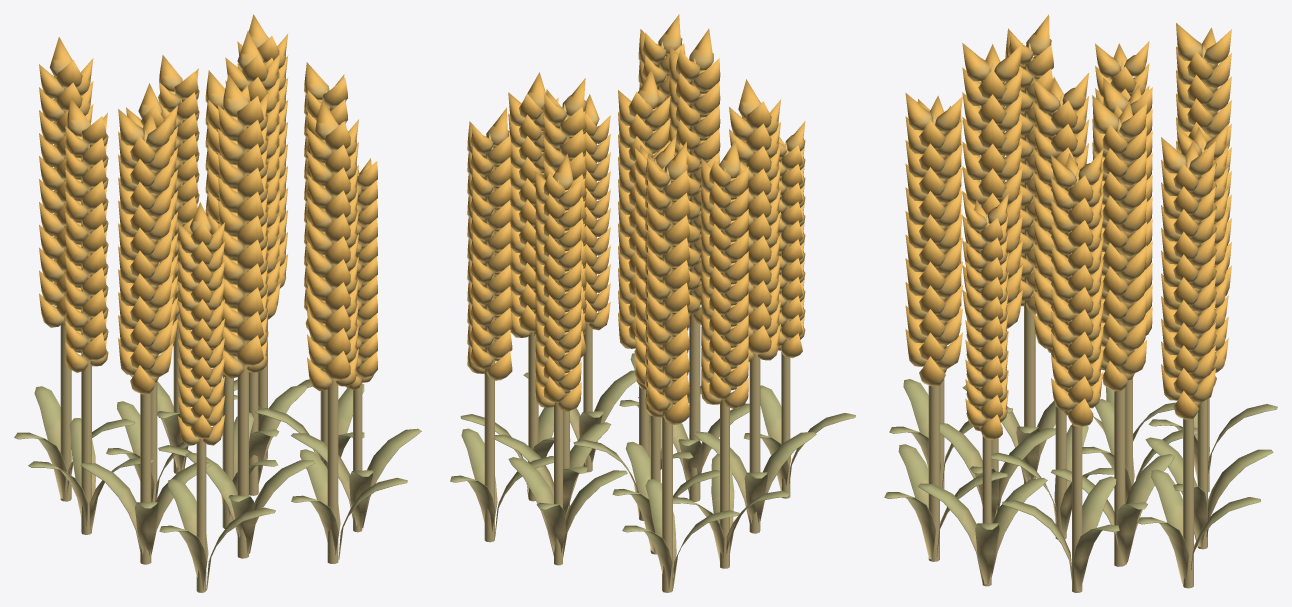
File: Wheat_STAGE3.fbx
3 views of the same model, side by side, from view 1: azimuth 30°, elevation 25°; view 2: azimuth 150°, elevation 25°; view 3: azimuth 270°, elevation 25° (orthographic). The views are drawn at different scales.
Parts seen in each view (by area): view 1: Wheat_STAGE3; view 2: Wheat_STAGE3; view 3: Wheat_STAGE3.
Part boxes in pixels (<box>): Wheat_STAGE3: <box>14,14,421,592</box>; Wheat_STAGE3: <box>450,14,855,592</box>; Wheat_STAGE3: <box>884,14,1277,592</box>.
Size of the model in its own units: 1.15 by 1.16 by 1.56.
Materials: 1 (1 with a texture image).
